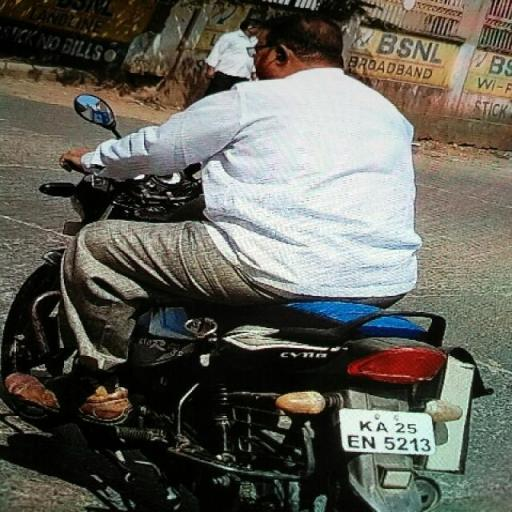bike: (3, 5, 492, 512)
numberplate: (338, 406, 434, 456)
withouthelmet: (260, 10, 338, 74)
